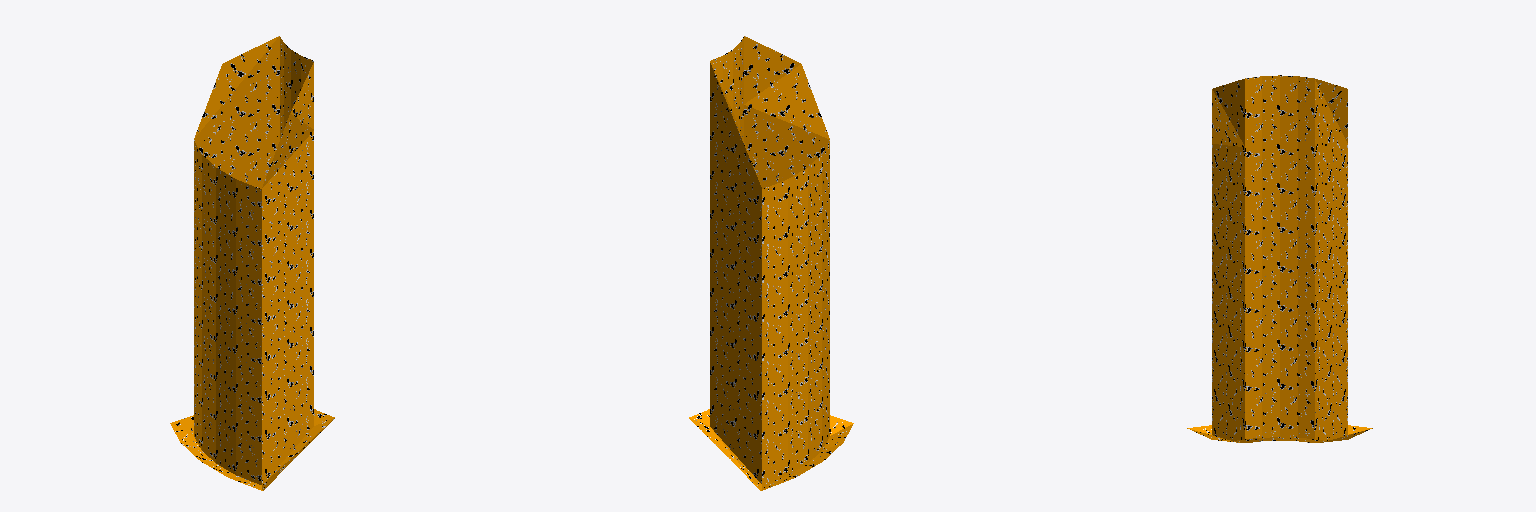
3 renders of one model, left to right at view 1: azimuth 30°, elevation 25°; view 2: azimuth 150°, elevation 25°; view 3: azimuth 270°, elevation 25°, orthographic.
Visible parts, largest first — view 1: base_wall.003; view 2: base_wall.003; view 3: base_wall.003.
Part boxes in pixels (x1,y1,x2,y2): base_wall.003: (170, 36, 334, 490); base_wall.003: (689, 36, 853, 490); base_wall.003: (1187, 75, 1372, 442).
Bounding box in the file's own units: 3.47 × 11.79 × 5.03.
Materials: 1 (1 with a texture image).